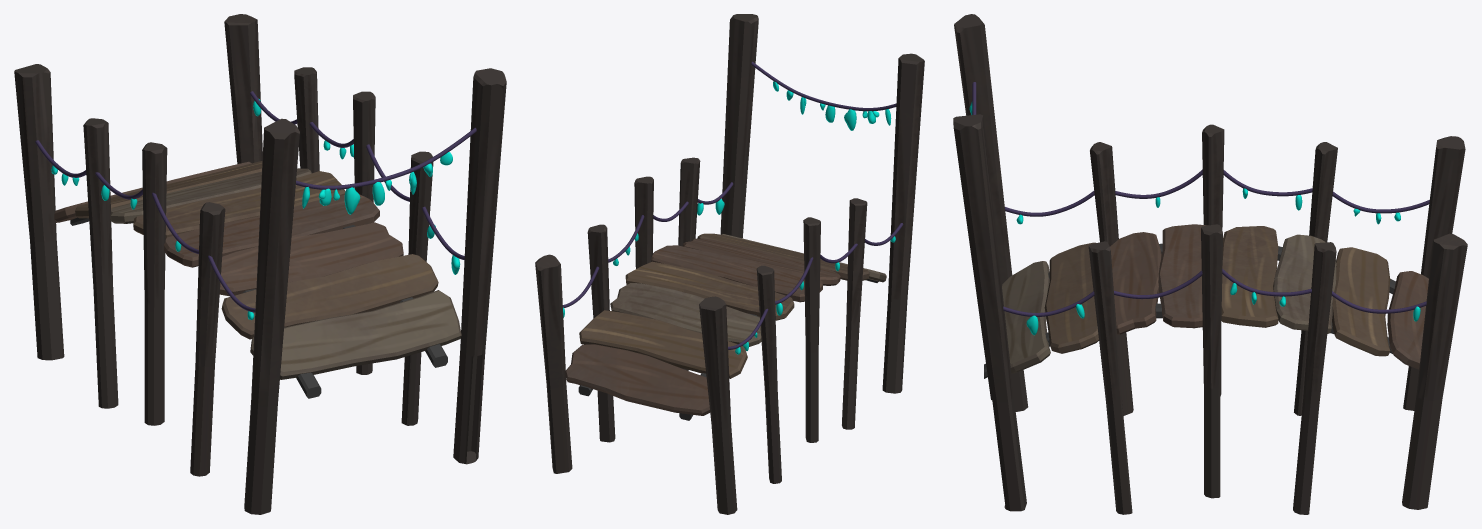
File: Complete_Bridge.fbx
3 views of the same model, side by side, from view 1: azimuth 30°, elevation 25°; view 2: azimuth 150°, elevation 25°; view 3: azimuth 270°, elevation 25° (orthographic). The views are drawn at different scales.
Parts seen in each view (by area): view 1: bridge_complete, glow_rocks_bridge_complete; view 2: bridge_complete, glow_rocks_bridge_complete; view 3: bridge_complete, glow_rocks_bridge_complete.
Part boxes in pixels (box(x1,y1,x2,y2)): bridge_complete: box(14, 14, 506, 514); glow_rocks_bridge_complete: box(51, 98, 460, 319); bridge_complete: box(535, 14, 924, 514); glow_rocks_bridge_complete: box(563, 81, 895, 354); bridge_complete: box(953, 14, 1467, 514); glow_rocks_bridge_complete: box(969, 101, 1420, 335).
Size of the model in its own units: 203 by 331 by 392.
